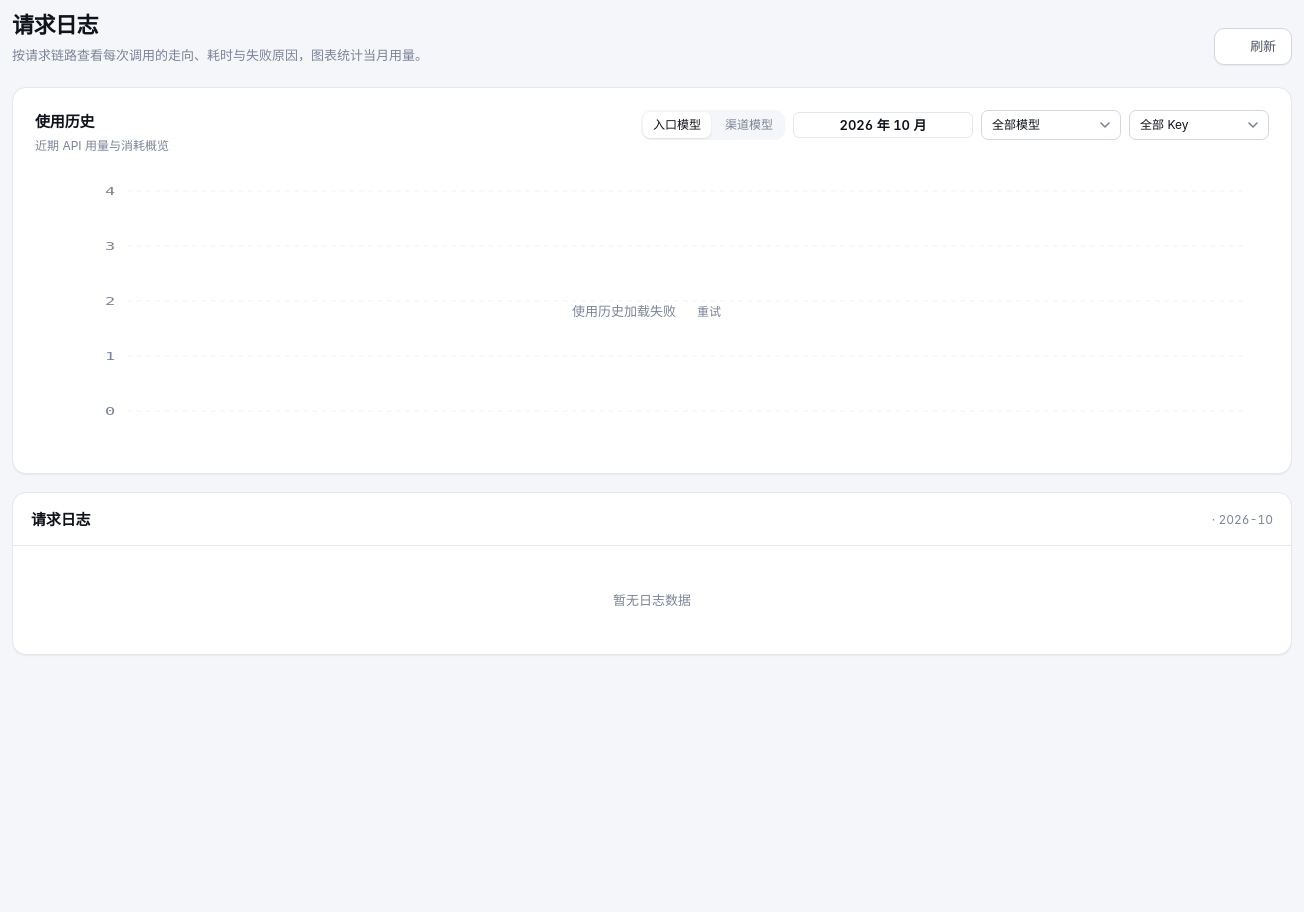
Test case: 请求日志页 - 使用历史图表的加载态与刷新 › 点击重试会重新请求图表，成功后渲染数据并清除失败态
This screenshot has width=1304, height=912.
Expected: the element with class "chart-overlay-error" is shown, [572,298,732,325]
Click the button with class "chart-retry-btn": (709, 312) [686,298,732,325]
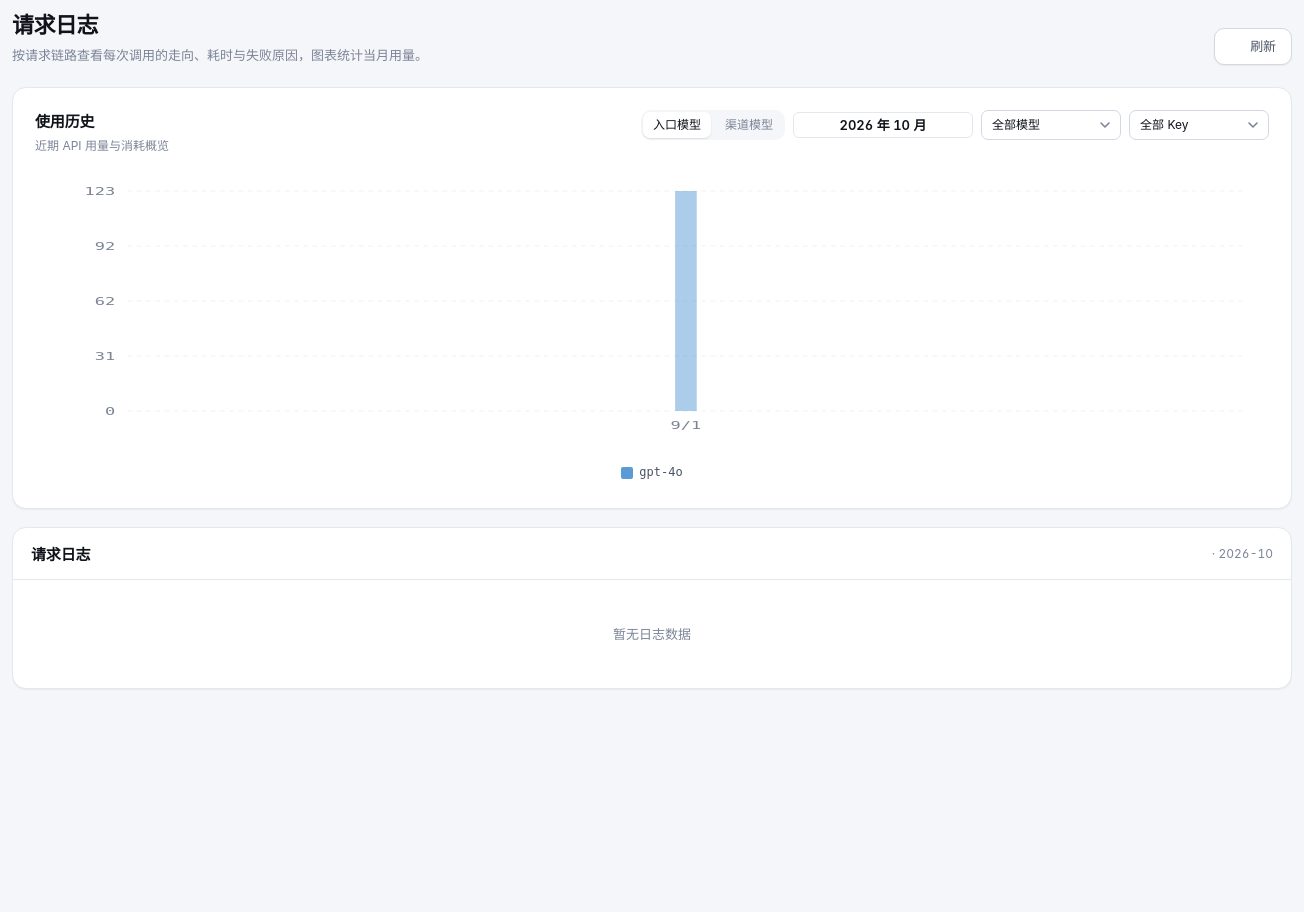
Expected: the number of elements with class "chart-legend-item" is 1, [621,464,683,482]
